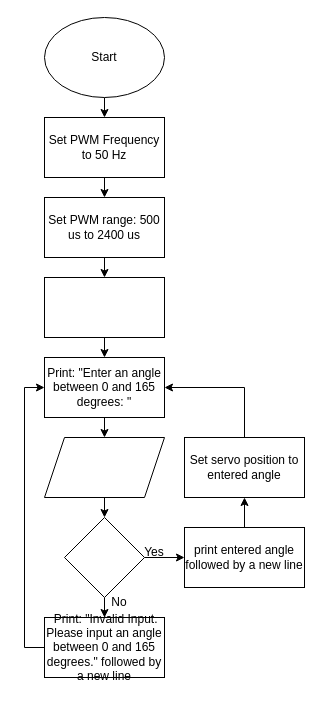
Image size: 322x701. Some labels were removed from this diagram. The shapes that lost their labels are listed below. From the top down, each one's centre as x and y in pixels, then its label:
(104,307): Print "System Starting" followed by a new line
(104,467): Enter a number
(104,557): Is it >= 0 and <=165?
